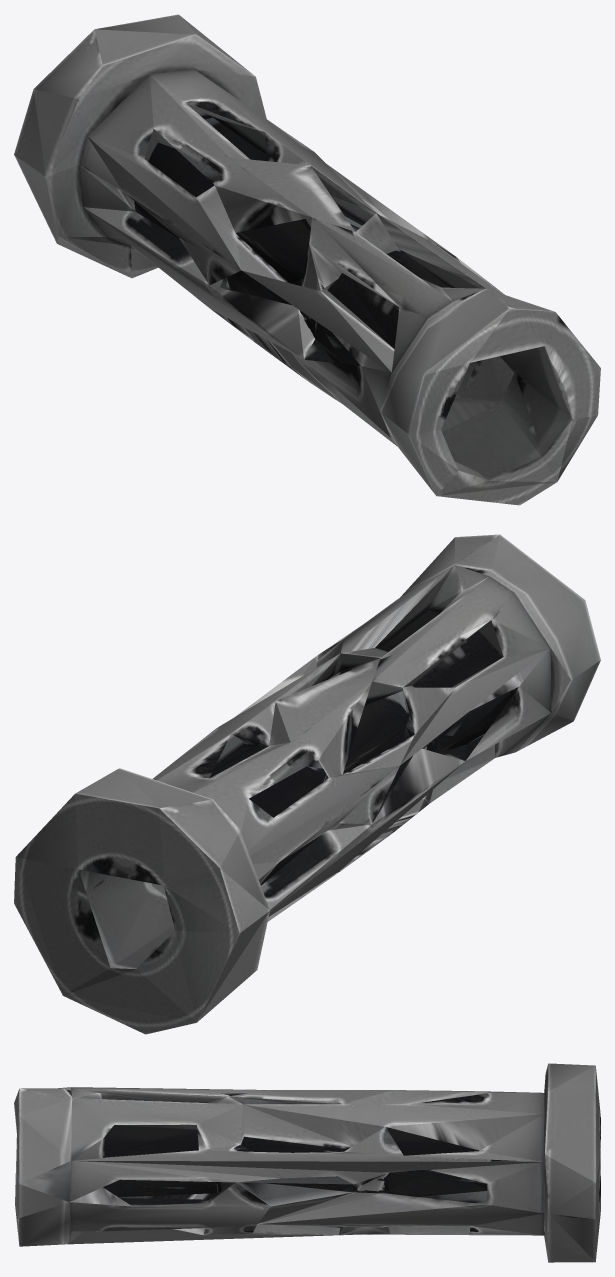
Rendered from shared_flak_tower_compact_option__barrel_lod1.glb.
The picture shows the model from 3 angles, top to bottom: view 1: azimuth 30°, elevation 25°; view 2: azimuth 150°, elevation 25°; view 3: azimuth 270°, elevation 25°; orthographic projection. The views are drawn at different scales.
Parts seen in each view (by area): view 1: mesh_node; view 2: mesh_node; view 3: mesh_node.
Boxes of the visible parts, x1,y1,x2,y2 form: mesh_node: (14, 14, 600, 505); mesh_node: (14, 534, 600, 1034); mesh_node: (14, 1063, 600, 1262).
Bounding box in the file's own units: 0.6013 × 0.582 × 1.77.
1 material, 1 textured.
